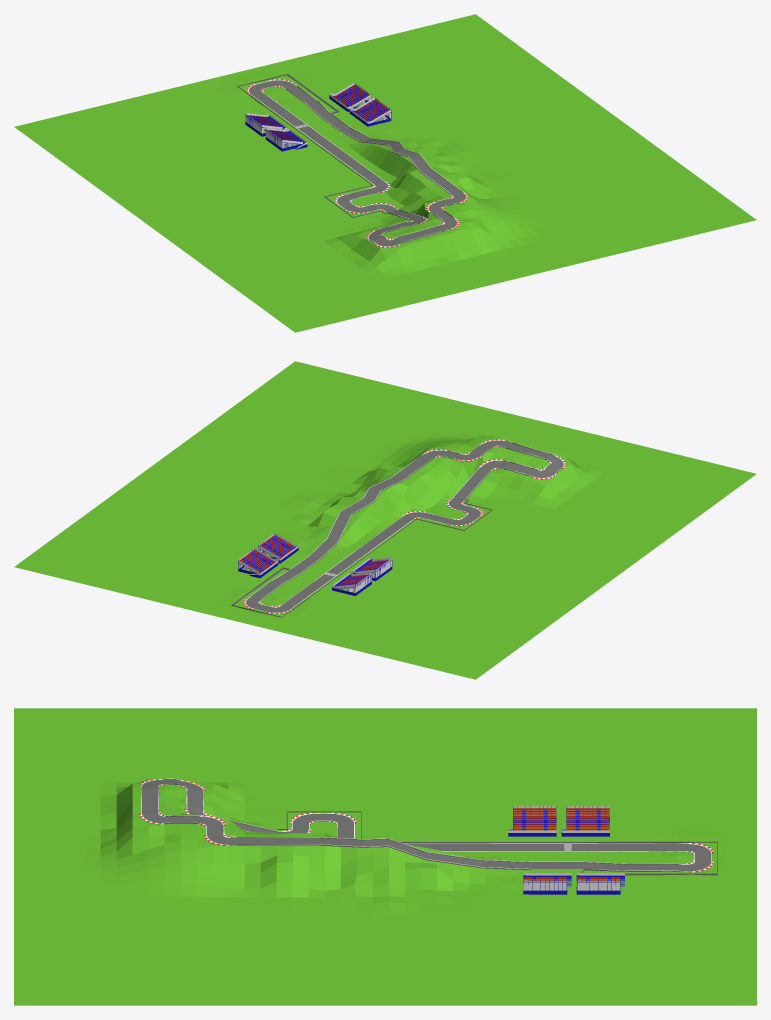
The model's file is RaceTrack3 1.fbx.
The picture shows the model from 3 angles, top to bottom: view 1: azimuth 30°, elevation 25°; view 2: azimuth 150°, elevation 25°; view 3: azimuth 270°, elevation 25°; orthographic projection. The views are drawn at different scales.
Parts seen in each view (by area): view 1: RaceTrack3, Roads; view 2: RaceTrack3, Roads; view 3: RaceTrack3, Roads.
Boxes of the visible parts, bbox=[...] form: RaceTrack3: bbox=[14, 14, 756, 332]; Roads: bbox=[249, 80, 465, 246]; RaceTrack3: bbox=[14, 361, 756, 679]; Roads: bbox=[246, 440, 563, 612]; RaceTrack3: bbox=[14, 708, 756, 1005]; Roads: bbox=[142, 779, 711, 871].
Bounding box in the file's own units: 113081 × 4952 × 119304.
